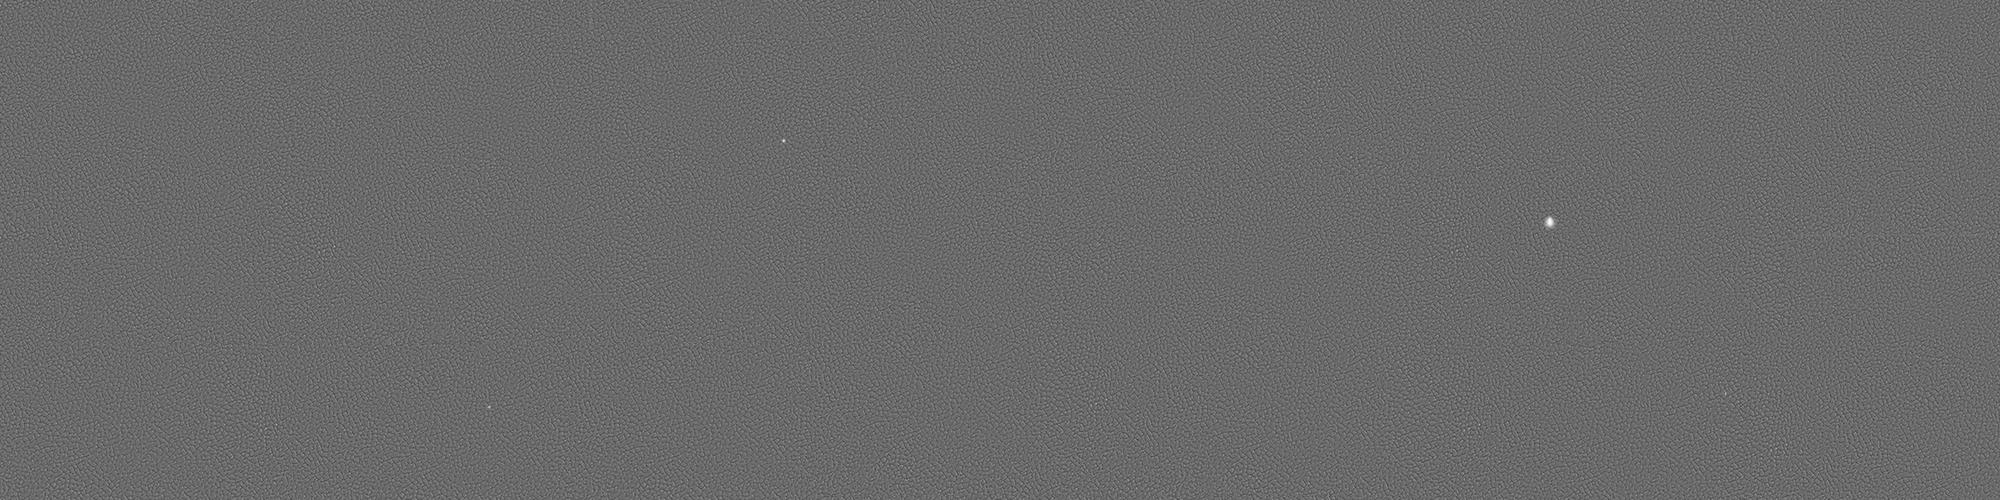Particles: (1540, 212, 1561, 235), (1721, 388, 1732, 399), (779, 138, 790, 148), (485, 404, 496, 412)
